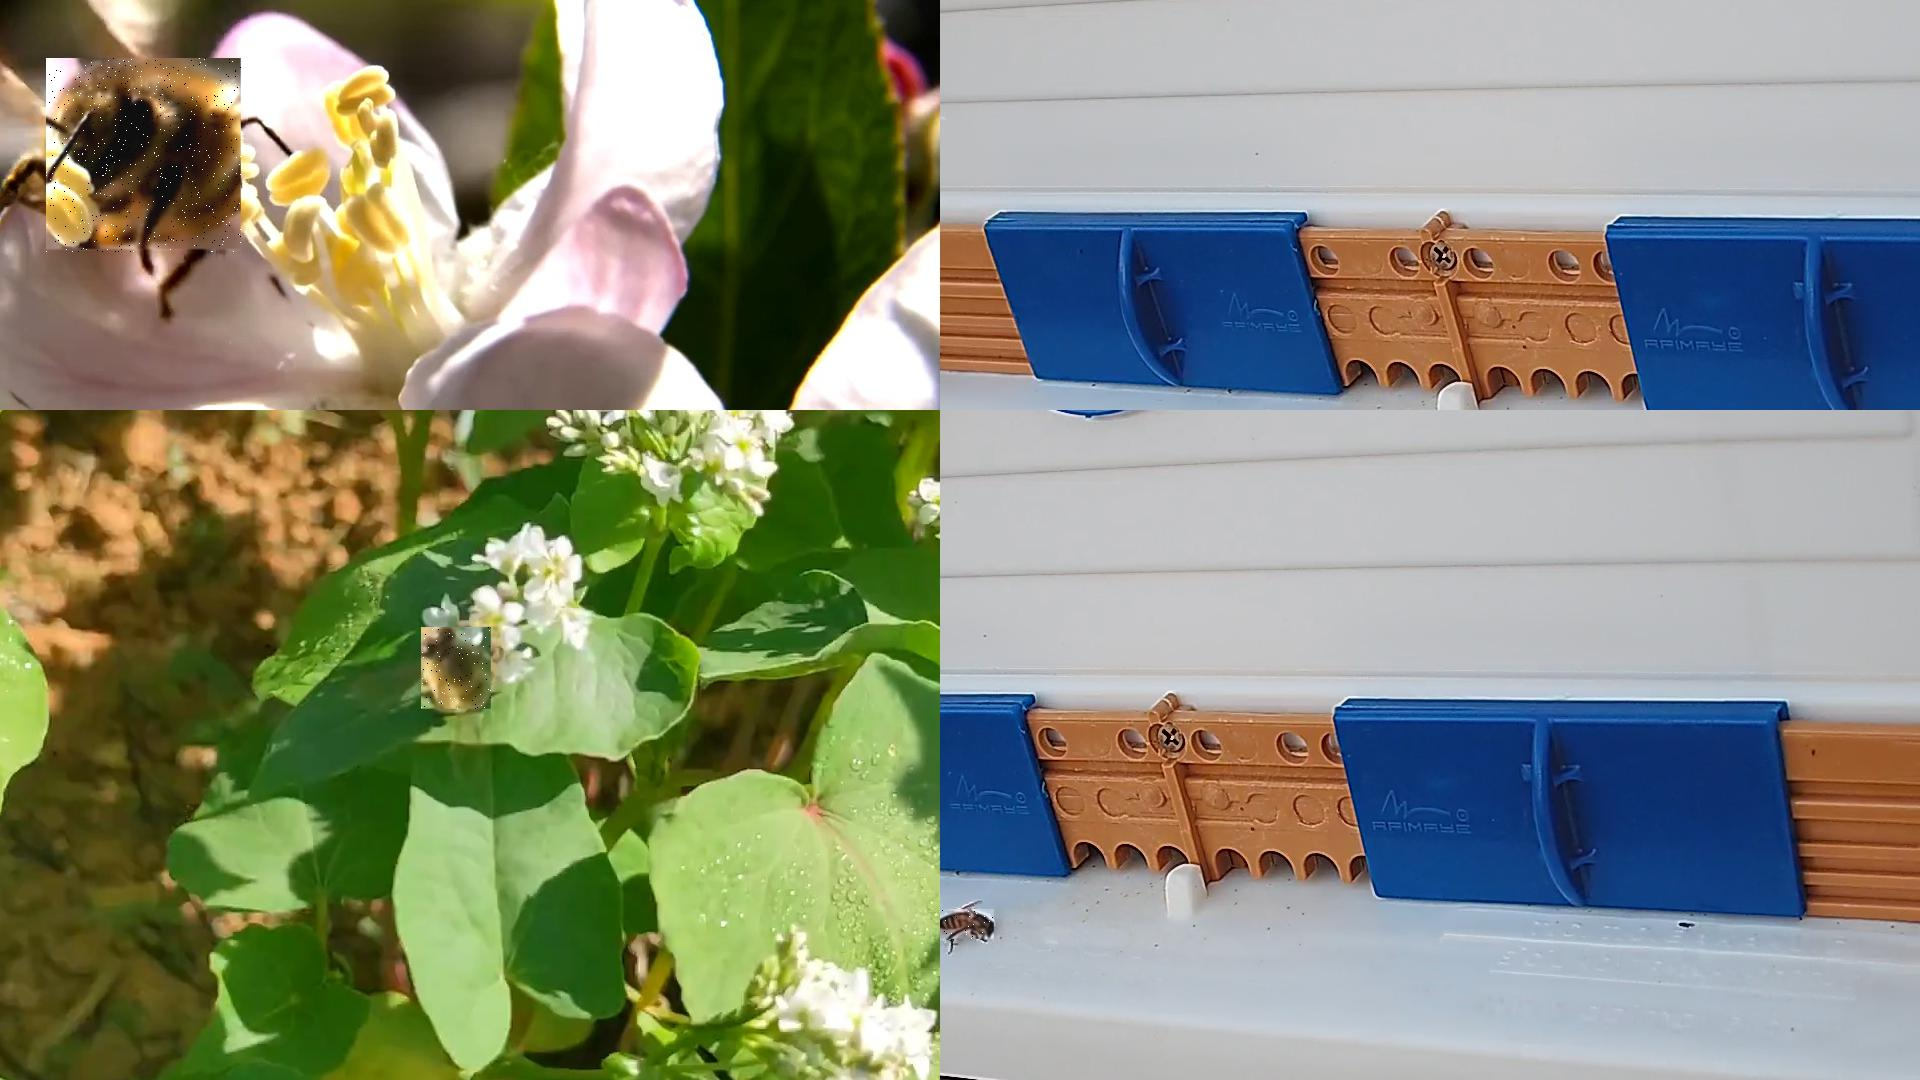bee: (46, 59, 243, 255), (421, 628, 492, 709), (940, 909, 996, 942)
